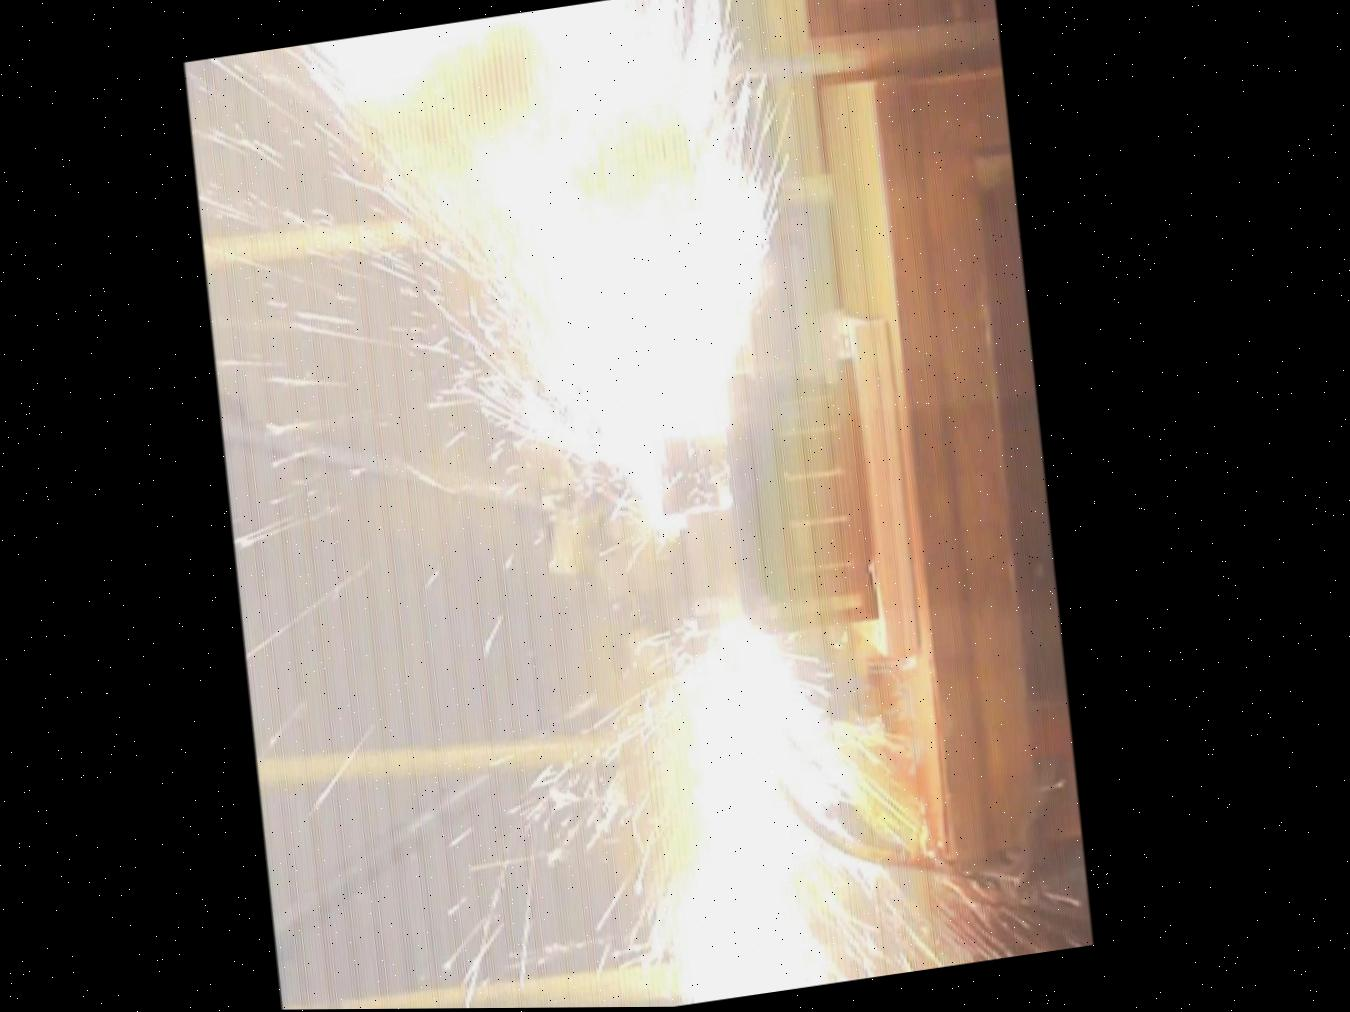fire: (269, 9, 1060, 1012)
